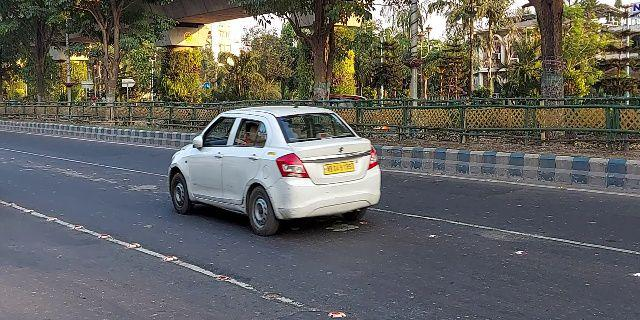Car: (161, 100, 386, 238)
